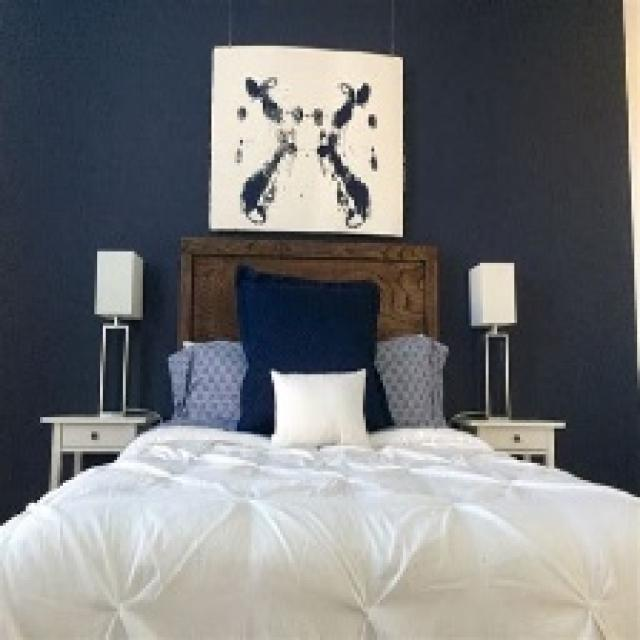Bed: (0, 232, 637, 637)
